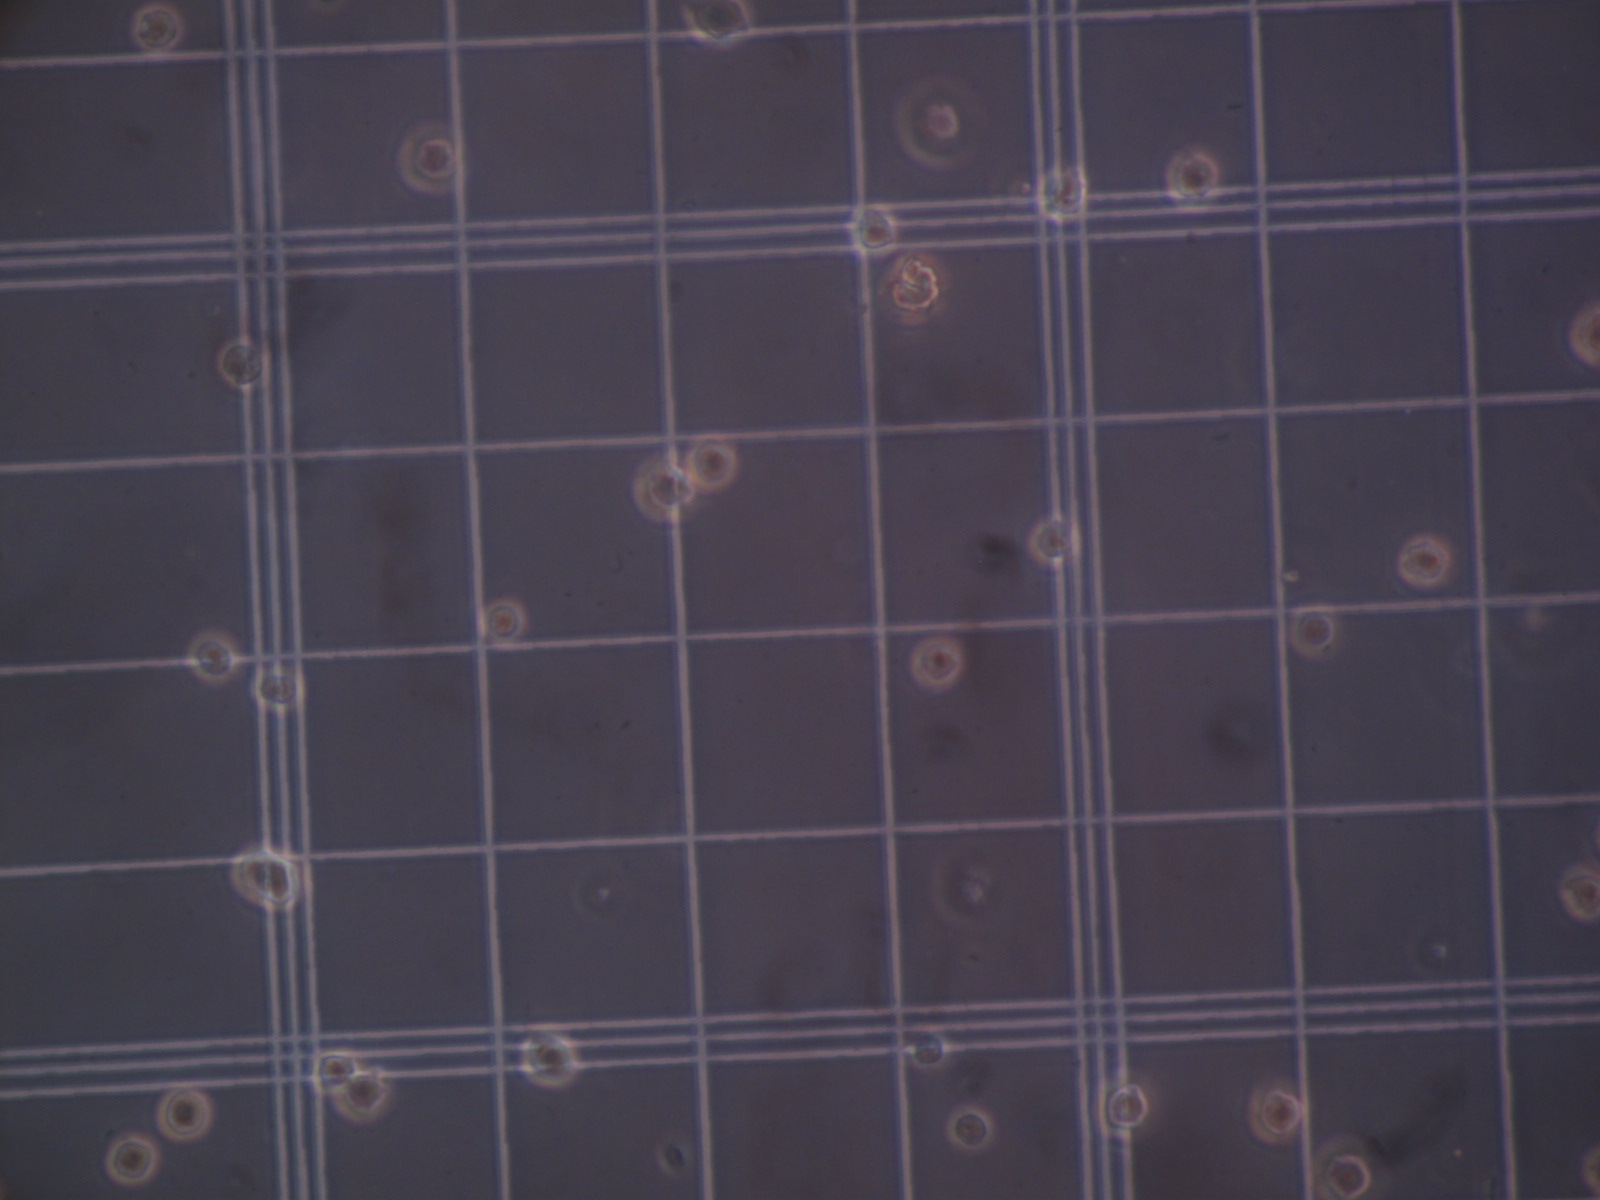hemo: (894, 76, 976, 169), (228, 842, 305, 913), (876, 250, 950, 321), (1308, 1131, 1383, 1200), (397, 121, 466, 195), (634, 456, 699, 527), (1246, 1073, 1306, 1147), (1095, 1069, 1151, 1138), (1165, 144, 1222, 213), (522, 1031, 580, 1092), (678, 1, 751, 49), (157, 1083, 213, 1142), (185, 629, 238, 687), (847, 200, 898, 257), (1288, 603, 1339, 659), (1398, 531, 1450, 587), (336, 1068, 391, 1121), (215, 335, 267, 391), (105, 1134, 157, 1187), (910, 637, 964, 688), (688, 436, 737, 493), (131, 1, 184, 53), (1039, 166, 1089, 221), (1029, 519, 1082, 568), (1558, 863, 1600, 925), (249, 666, 305, 711), (310, 1047, 359, 1095), (480, 596, 527, 645), (946, 1105, 993, 1153), (1569, 303, 1600, 371), (910, 1029, 949, 1071)
